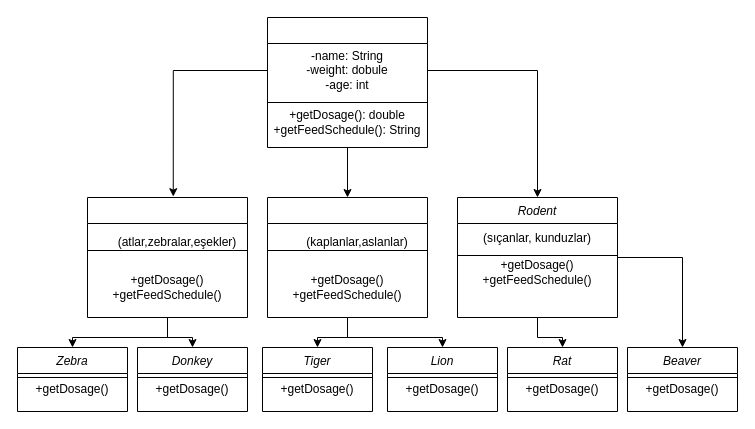
Some shapes in this 755 by 429 pixel diagram are drawn without their labels. The shapes that lost their labels are listed below. From the top down, each one's box as (x1, y1, x2, y2) in pixels, then its label:
(266, 16, 428, 148): absract - Animal
(86, 196, 248, 318): Horse
(266, 196, 428, 318): Feline
